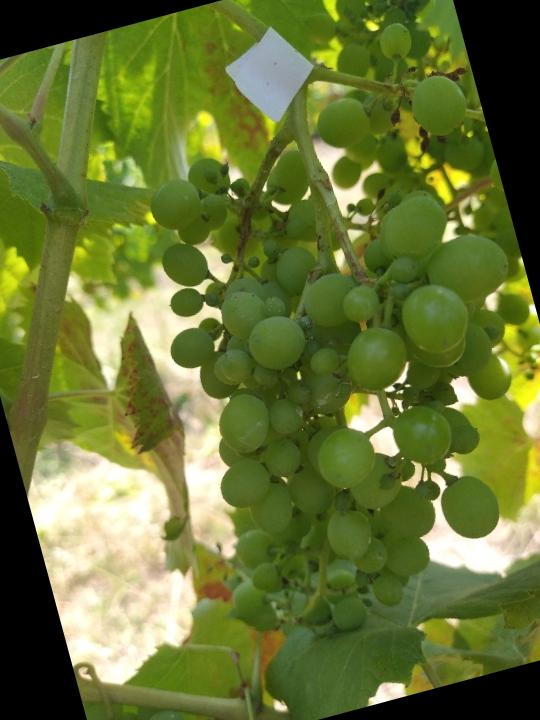grape: (90, 6, 540, 665)
